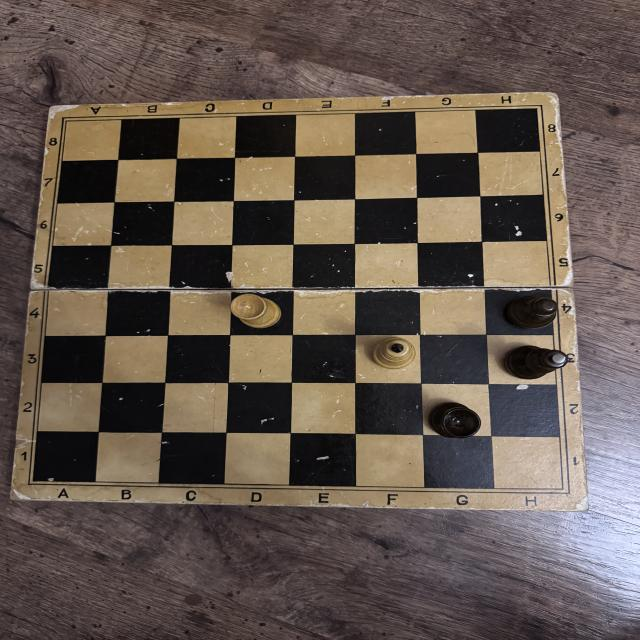black-king: (500, 344, 567, 380)
black-pawn: (504, 294, 560, 330)
black-rook: (427, 400, 482, 439)
white-king: (372, 335, 418, 370)
white-rook: (229, 293, 284, 329)
